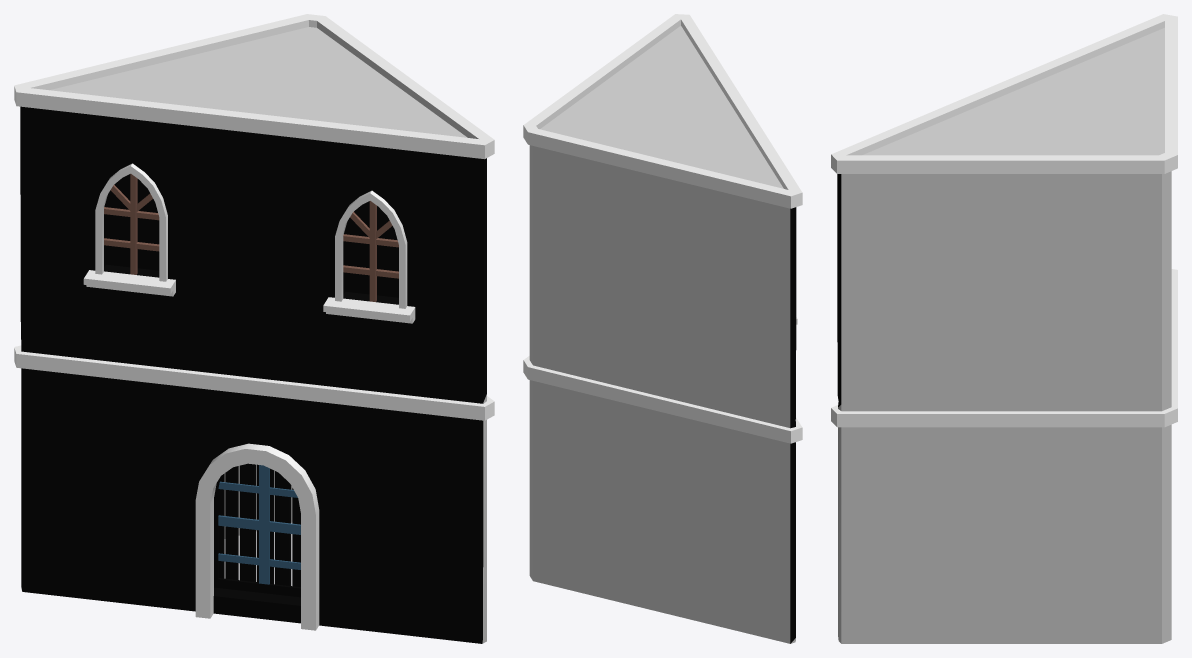
File: civilian_house_40_c.FBX
3 renders of one model, left to right at view 1: azimuth 30°, elevation 25°; view 2: azimuth 150°, elevation 25°; view 3: azimuth 270°, elevation 25°, orthographic. The views are drawn at different scales.
Visible parts, largest first — view 1: civilian_house_40_c_LOD0; view 2: civilian_house_40_c_LOD0; view 3: civilian_house_40_c_LOD0.
Part boxes in pixels (left/top/right/bottom): civilian_house_40_c_LOD0: left=14, top=14, right=494, bottom=643; civilian_house_40_c_LOD0: left=523, top=14, right=802, bottom=643; civilian_house_40_c_LOD0: left=831, top=14, right=1177, bottom=643.
Size of what is drawn, in the model's own units: 524 by 811 by 524.
